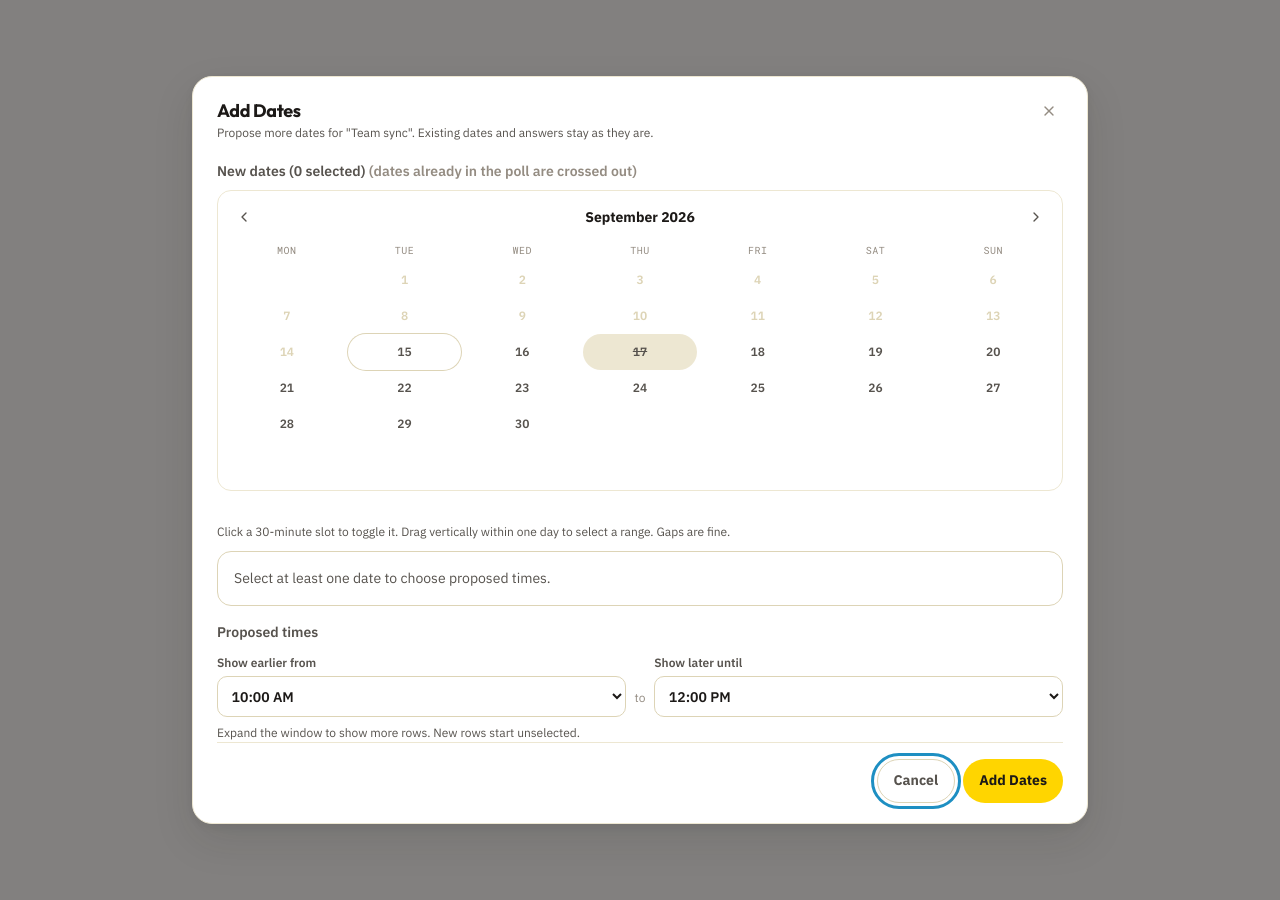
ExtendPollModal › focuses the first validation error after a submit, then the server error
The width and height of the screenshot is (1280, 900).
What coordinates should you click on to do the following:
click the button with id "add-dates-submit-btn"
I would click on:
 (1013, 781)
Its box is [963, 759, 1063, 803].
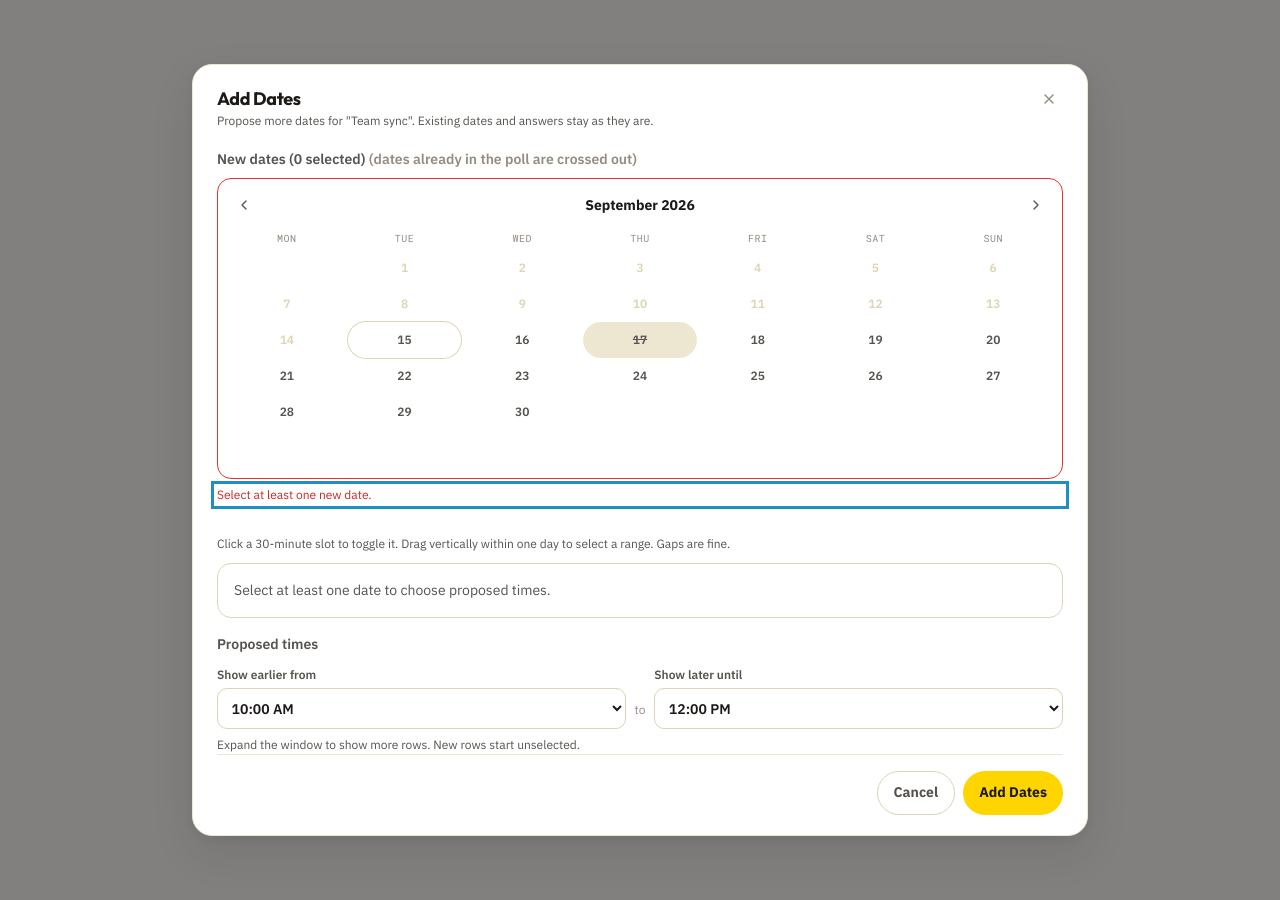
What coordinates should you click on to do the following:
click the button "18"
I would click on:
 (758, 340)
Its box is [701, 322, 814, 358].
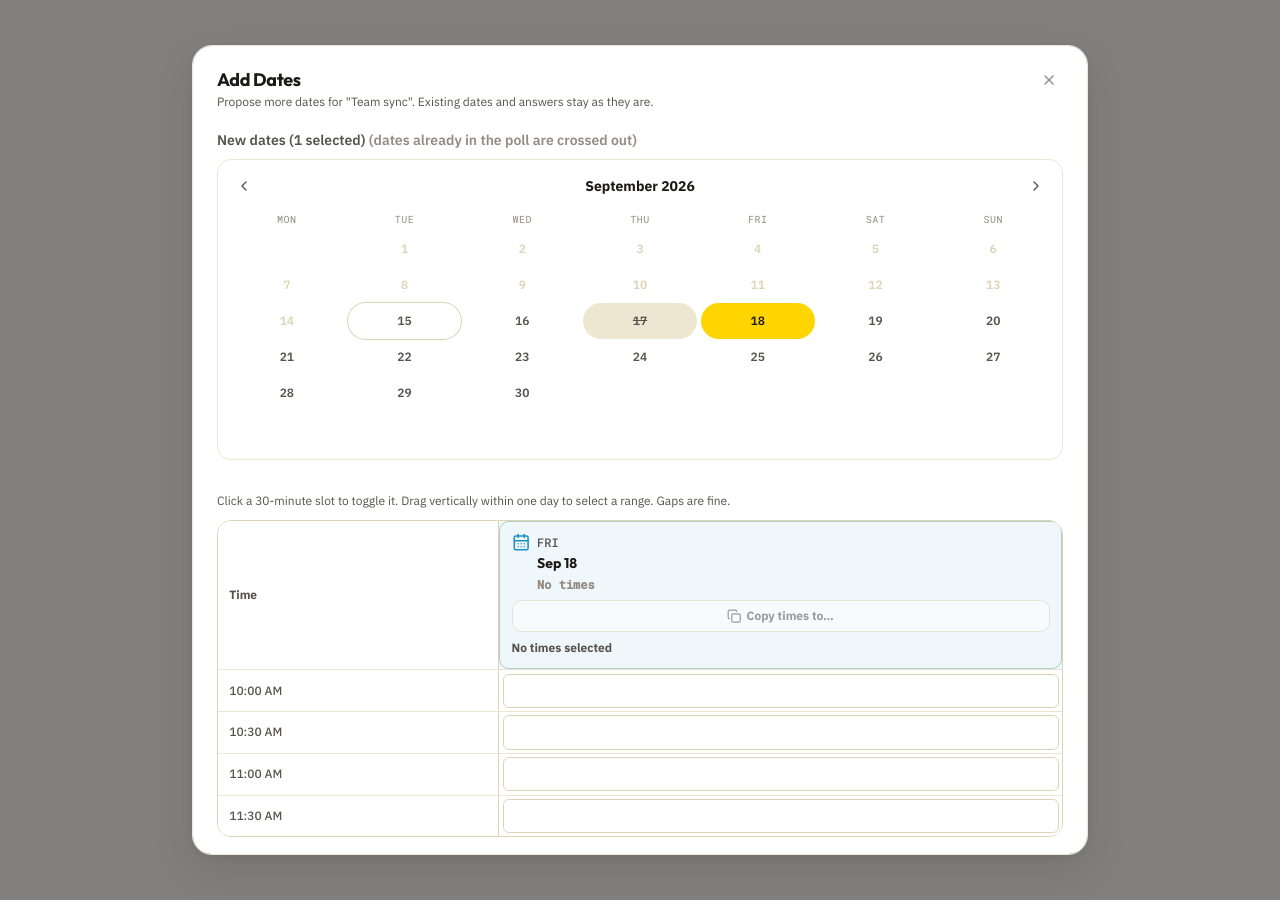
What coordinates should you click on to do the following:
click the button named "Friday, September 18, 10:00 AM – 10:30 AM: not proposed"
I would click on:
 (781, 691)
Its box is [502, 674, 1059, 708].
(page scrolled)
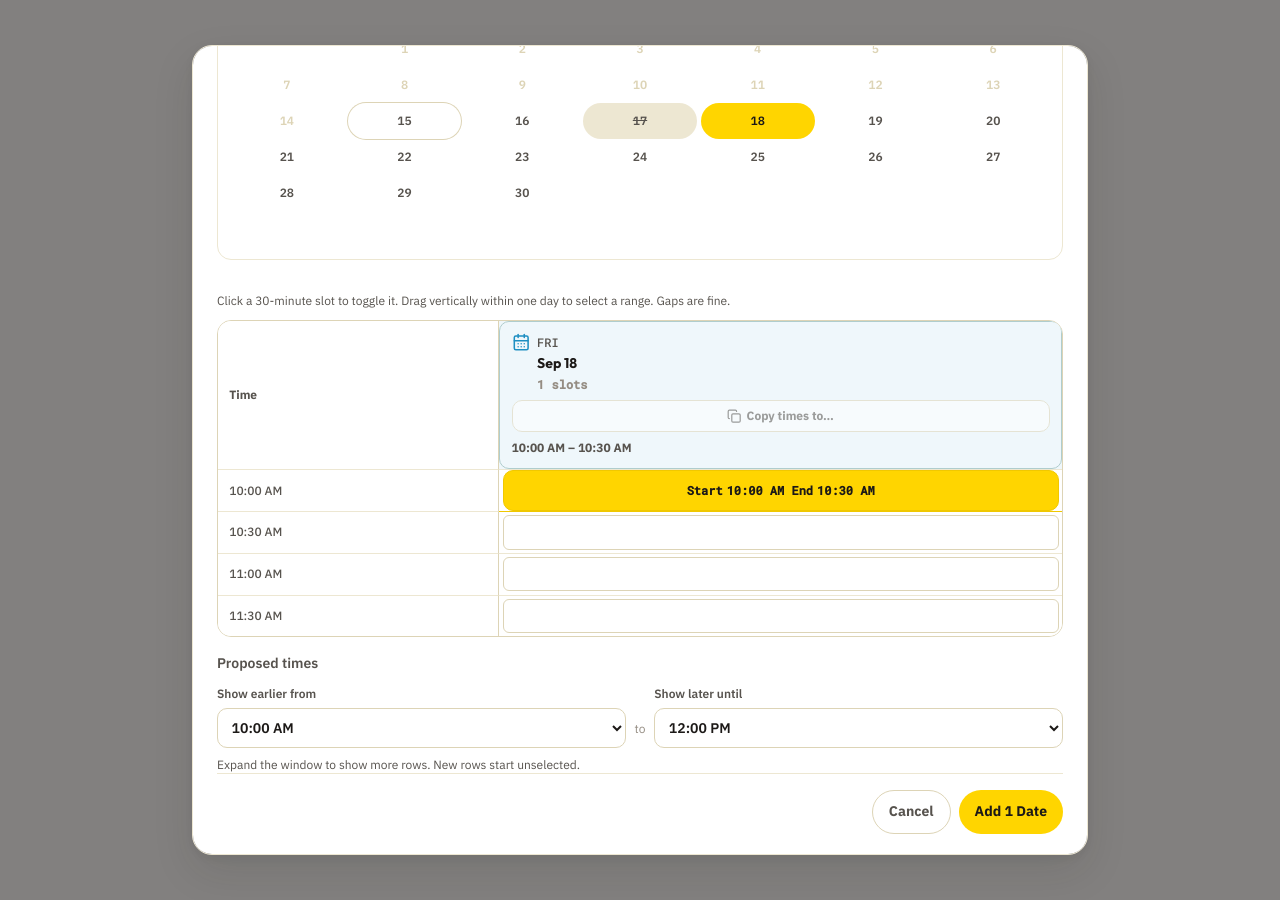
What coordinates should you click on to do the following:
click the button with id "add-dates-submit-btn"
I would click on:
 (1011, 812)
Its box is [959, 790, 1063, 834].
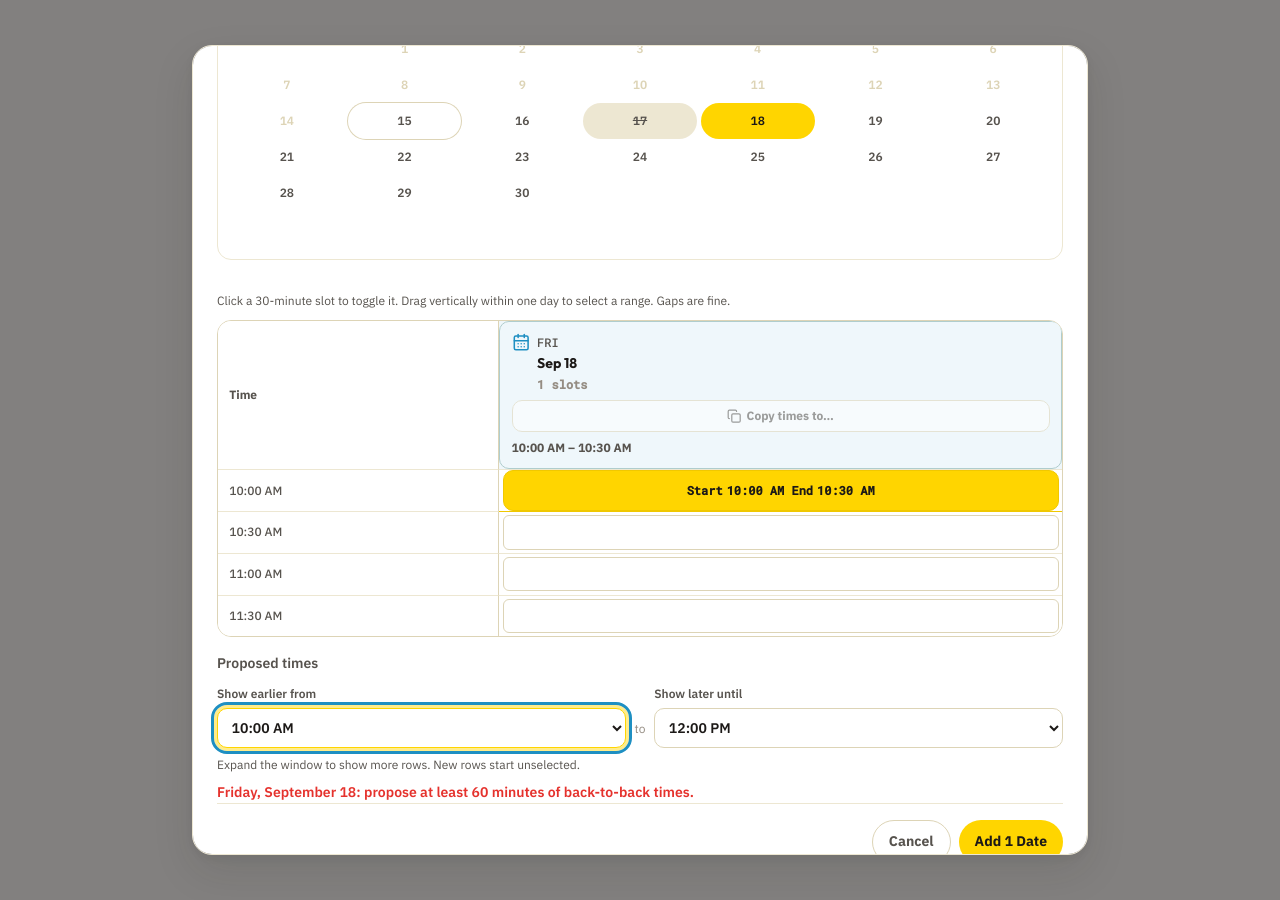
What coordinates should you click on to do the following:
click the button named "Friday, September 18, 10:30 AM – 11:00 AM: not proposed"
I would click on:
 (781, 532)
Its box is [502, 515, 1059, 550].
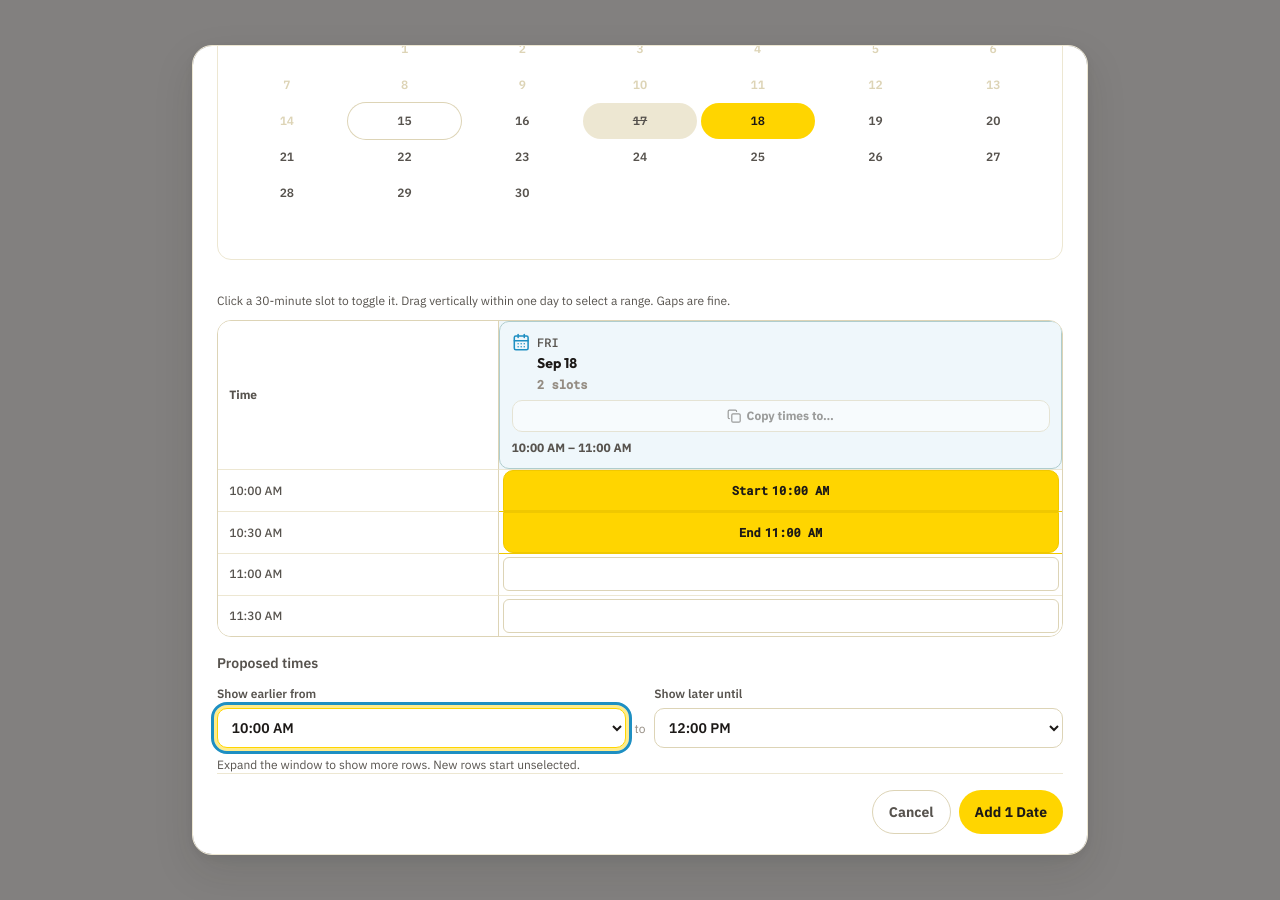
What coordinates should you click on to do the following:
click the button with id "add-dates-submit-btn"
I would click on:
 (1011, 812)
Its box is [959, 790, 1063, 834].
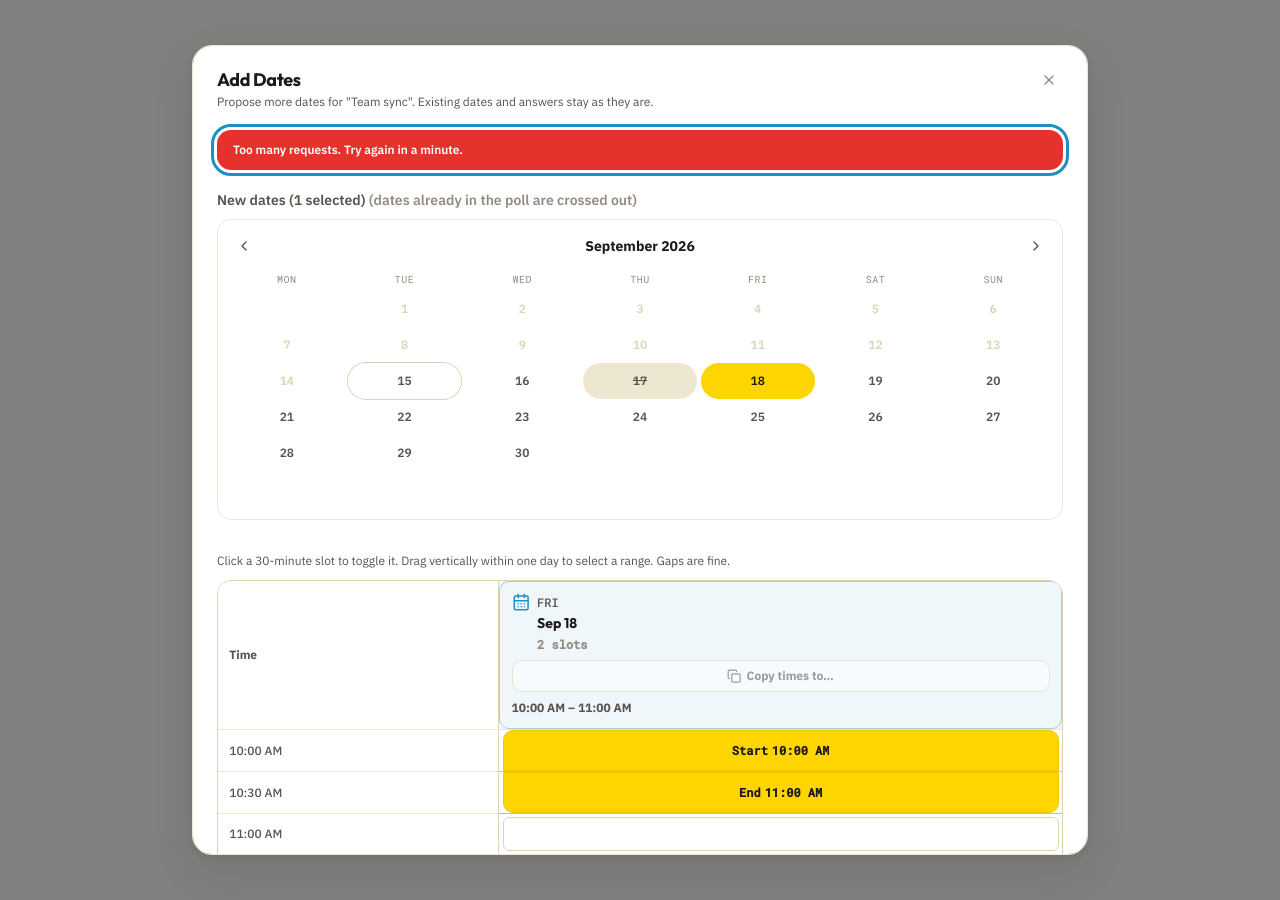
Result: the message "Too many requests. Try again in a minute." is shown at [217, 130, 1063, 170]
